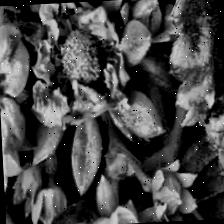Blossom Blight: (43, 6, 119, 106)
